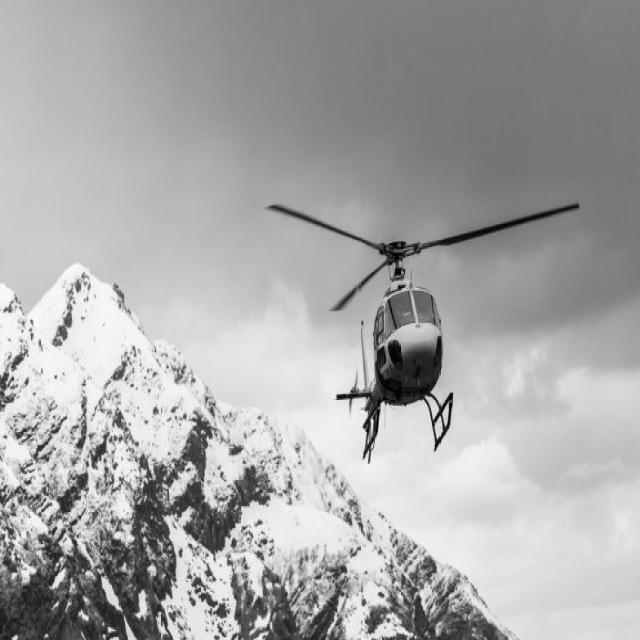helicopter: (268, 160, 589, 478)
